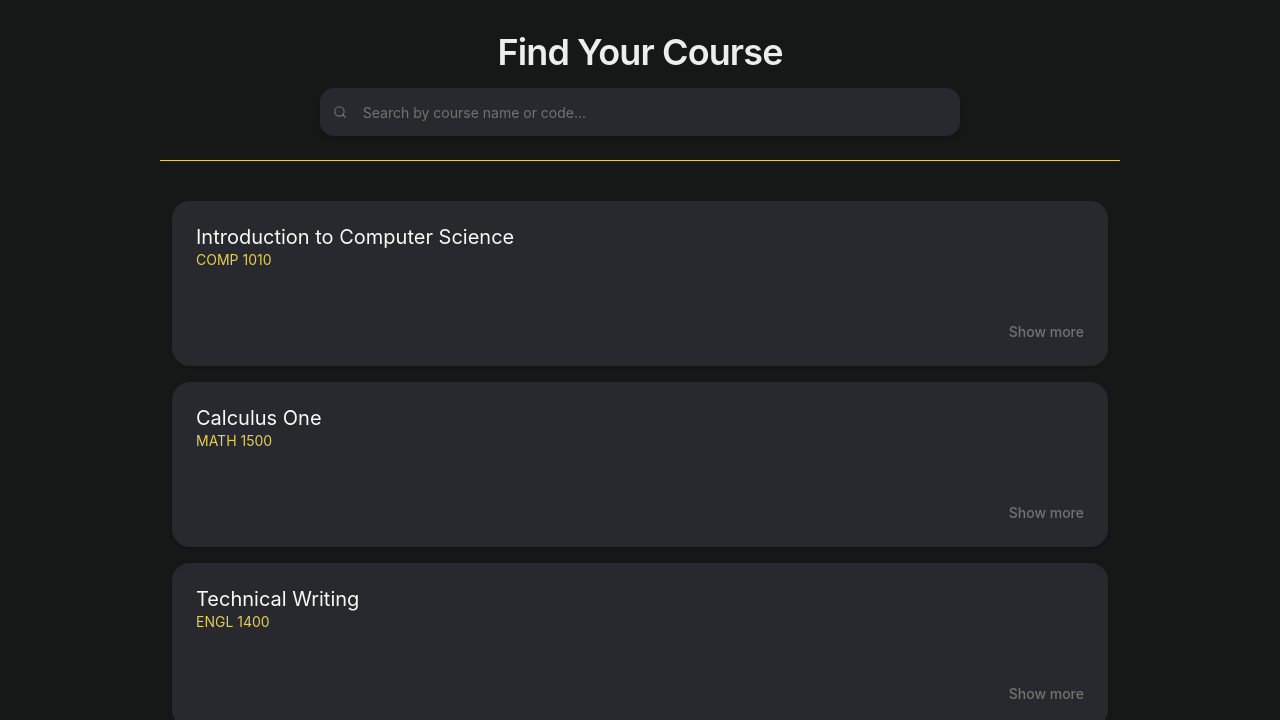
Test case: Home — search and filter › filters courses by title
This screenshot has width=1280, height=720.
expect the text "Introduction to Computer Science" is shown: met, box [196, 225, 514, 249]
Type "calculus" into the search field with placeholder "Search by course name or code...".
click(657, 112); type("calculus")  # box [355, 94, 960, 130]
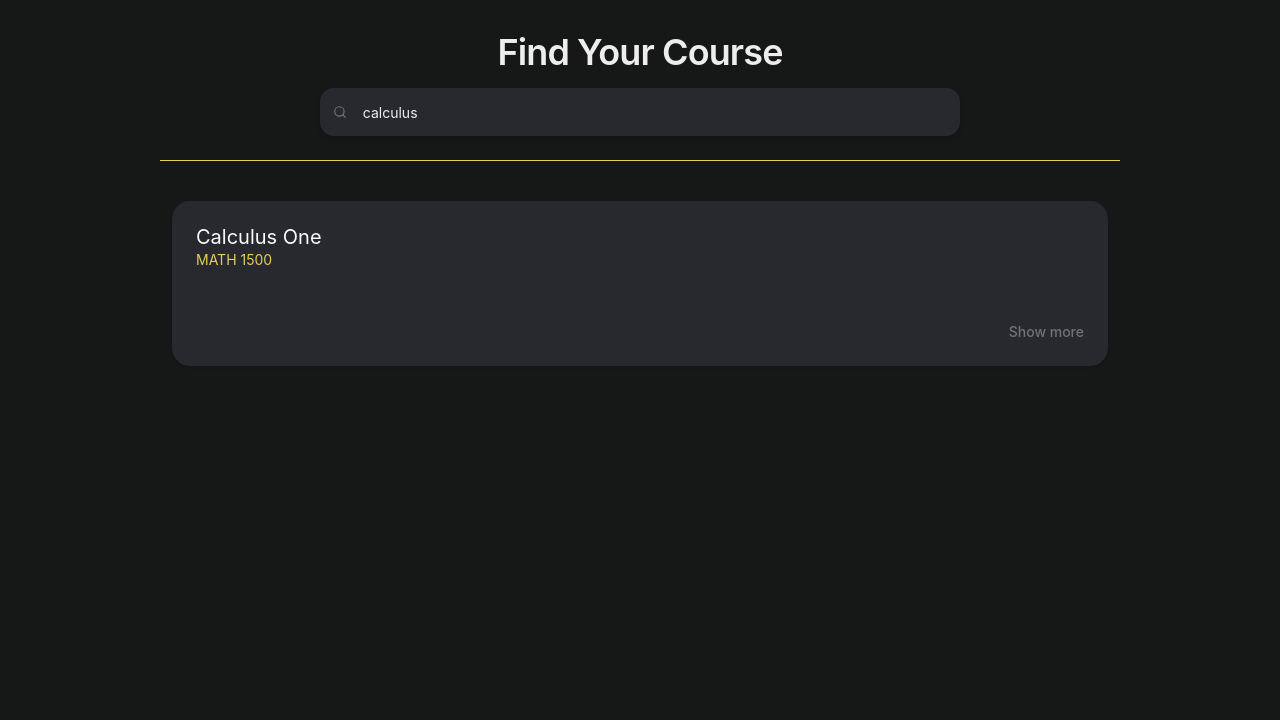
expect the text "Calculus One" is shown: met, box [196, 225, 322, 249]
expect the link "Introduction to Computer Science" is gone: met
expect the link "Technical Writing" is gone: met
